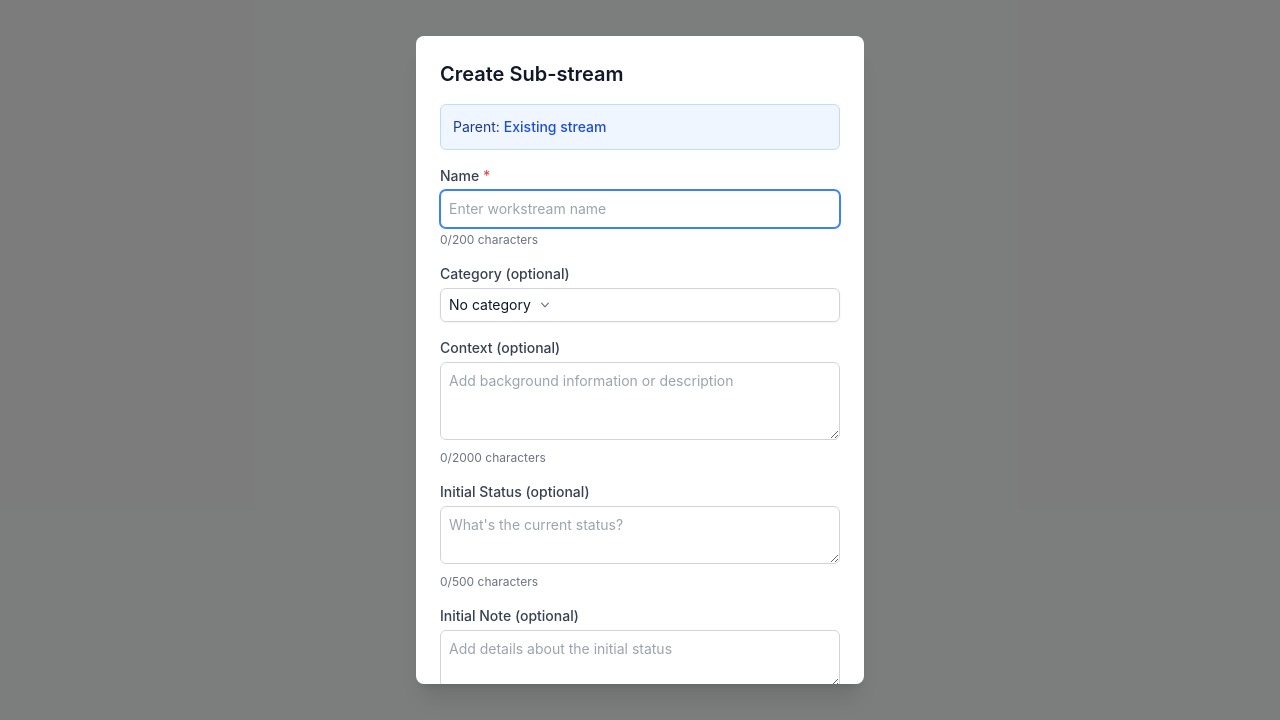
Scenario: dialog keyboard submission hints › uses the same Escape discard confirmation for creating sub-streams
The width and height of the screenshot is (1280, 720).
Expected: the heading "Create Sub-stream" is shown, [440,62,624,86]
Step 1. Type "Draft sub-stream" into the field labelled "Name *" → (640, 209), box [440,190,840,228]
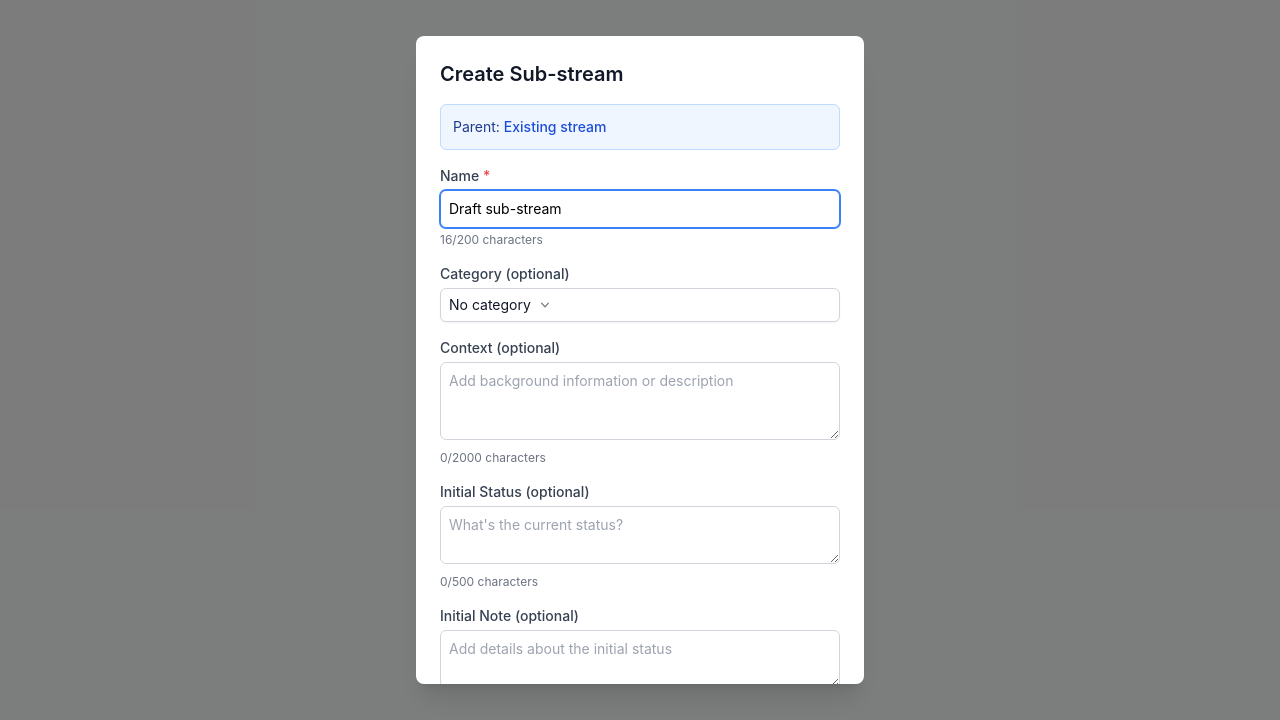
Step 2. Press Escape in the field labelled "Name *", box [440,190,840,228]
(page scrolled)
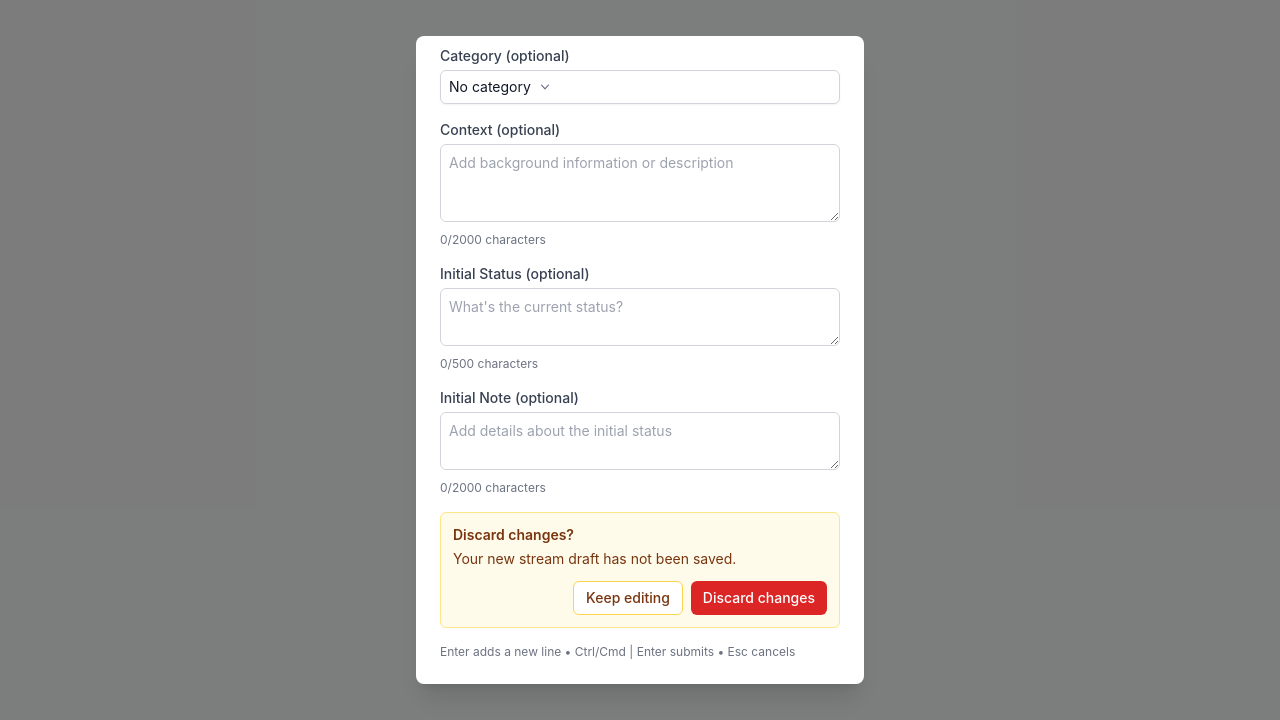
Expected: the button "Create" is not shown
Now the text "Discard changes?" is shown, box [453,526,574,543]
Step 3. Click the button "Keep editing" → (628, 598), box [573,581,683,615]
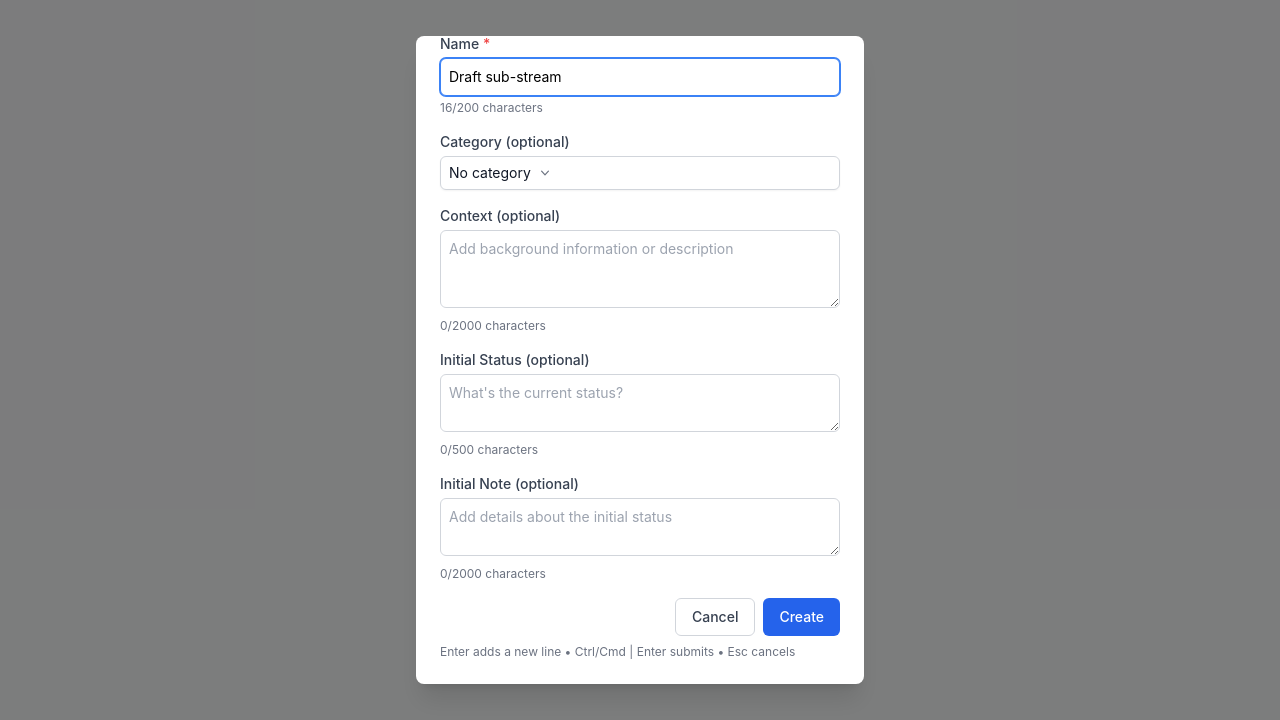
Now the text "Discard changes?" is gone
Now the button "Cancel" is shown, box [675,598,755,636]
Now the button "Create" is shown, box [763,598,840,636]
